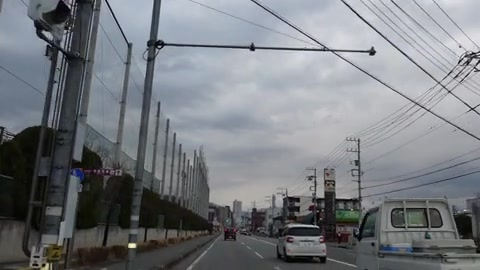traffic_sign: (70, 164, 84, 186)
